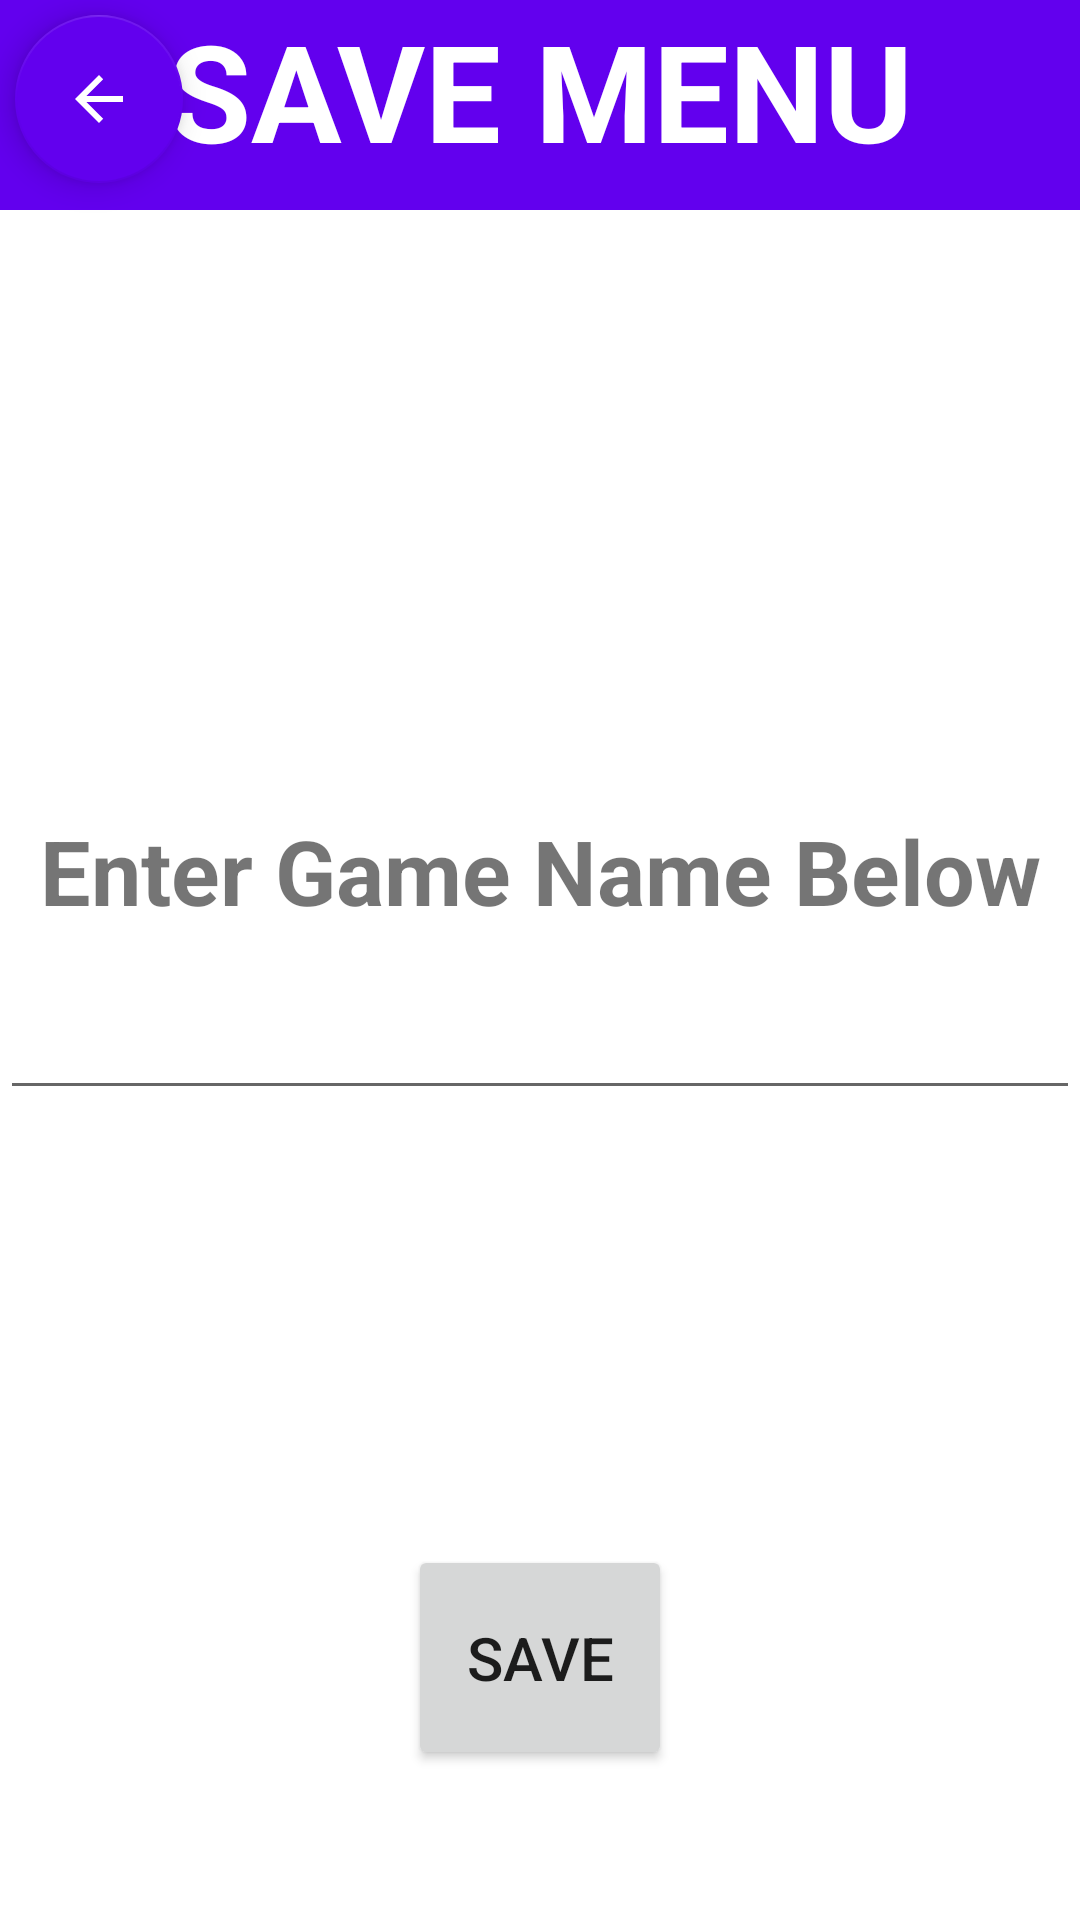

Icons on this 1080*1920 Android screen, each with its box as region(x1, y1, x2, y2):
back: region(15, 15, 130, 183)
